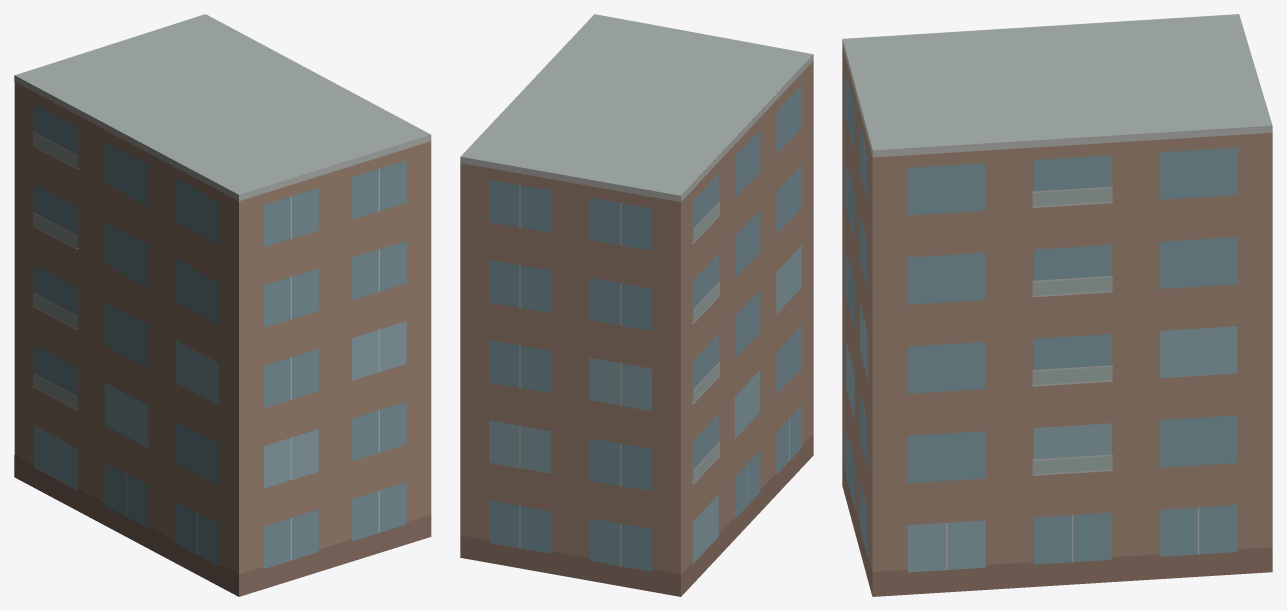
The model's file is survey-upis-32996822.glb.
3 views of the same model, side by side, from view 1: azimuth 30°, elevation 25°; view 2: azimuth 150°, elevation 25°; view 3: azimuth 270°, elevation 25° (orthographic). The views are drawn at different scales.
Visible parts, largest first — view 1: survey-upis-32996822.tmp; view 2: survey-upis-32996822.tmp; view 3: survey-upis-32996822.tmp.
Boxes of the visible parts, x1=… form: survey-upis-32996822.tmp: x1=14, y1=14, x2=431, y2=596; survey-upis-32996822.tmp: x1=460, y1=14, x2=813, y2=596; survey-upis-32996822.tmp: x1=842, y1=14, x2=1272, y2=596.
Bounding box in the file's own units: 10.04 × 15.31 × 13.38.
